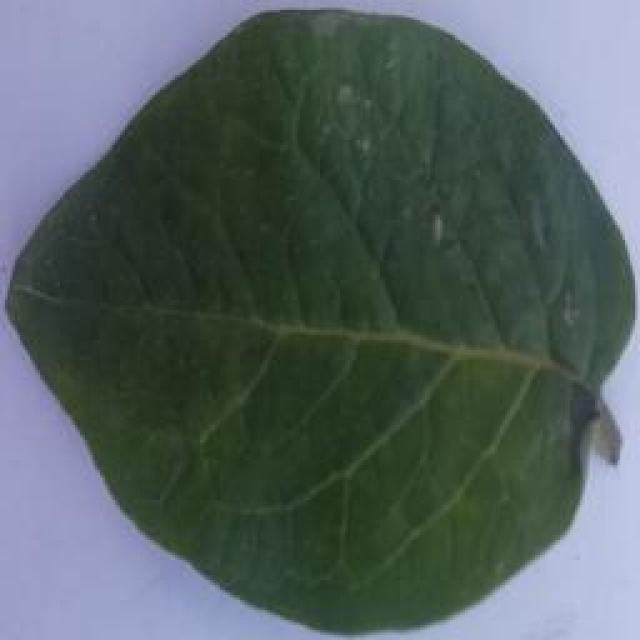Potato_Healthy: (7, 8, 623, 632)
